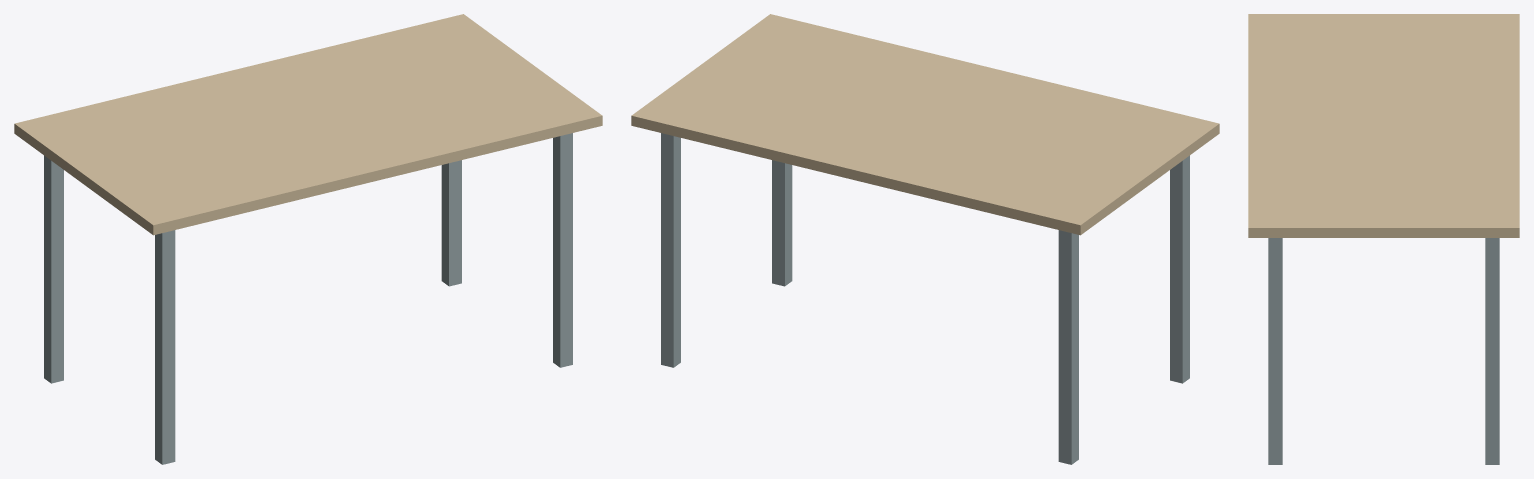
Rendered from demo-table.glb.
The picture shows the model from 3 angles, left to right: view 1: azimuth 30°, elevation 25°; view 2: azimuth 150°, elevation 25°; view 3: azimuth 270°, elevation 25°; orthographic projection. The views are drawn at different scales.
Visible parts, largest first — view 1: 测试桌子; view 2: 测试桌子; view 3: 测试桌子.
Part boxes in pixels (bbox=[...]): 测试桌子: bbox=[14, 14, 602, 464]; 测试桌子: bbox=[631, 14, 1219, 464]; 测试桌子: bbox=[1248, 14, 1519, 464].
Size of the model in its own units: 140 by 75 by 75.
